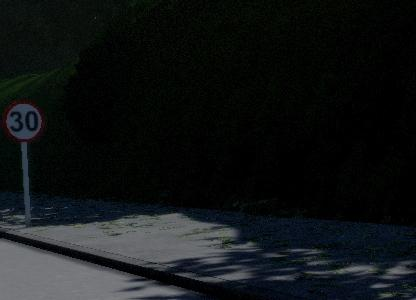Speed_30: (0, 97, 47, 145)
